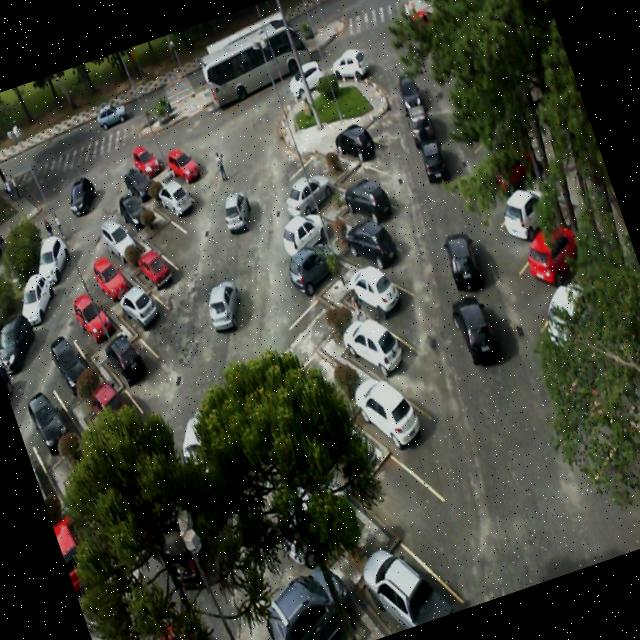empty: (345, 434, 461, 573), (264, 280, 349, 363), (331, 138, 396, 202), (138, 200, 195, 264), (272, 134, 334, 189)
occupied: (338, 502, 452, 638), (340, 361, 442, 486), (243, 549, 369, 640), (338, 302, 429, 406), (10, 366, 86, 468), (328, 252, 412, 342), (27, 309, 104, 406), (92, 316, 164, 406), (331, 204, 409, 286), (50, 270, 121, 360), (274, 228, 348, 300), (110, 270, 173, 350), (119, 230, 183, 307), (266, 197, 339, 264), (329, 168, 398, 238), (73, 241, 136, 315), (280, 162, 344, 221), (89, 206, 144, 274), (334, 114, 396, 174), (143, 164, 200, 228), (113, 148, 167, 214), (103, 178, 157, 242), (155, 141, 205, 202)
